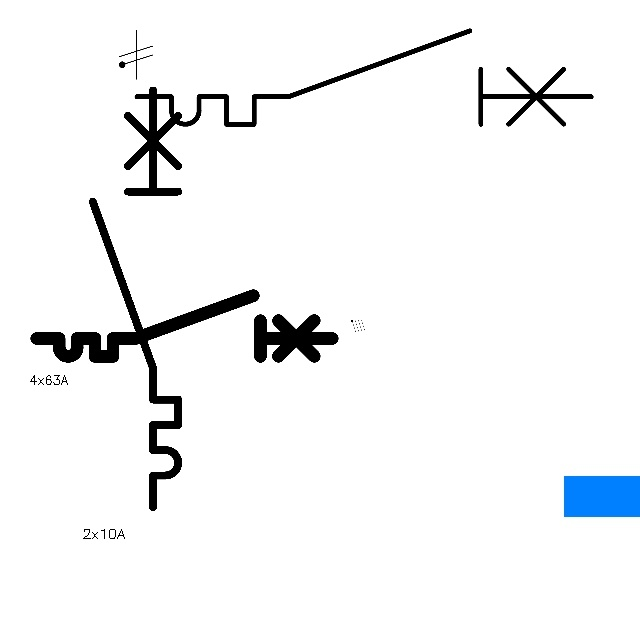interruptor_termomagnetico: (125, 19, 603, 136), (82, 79, 189, 517), (29, 288, 340, 364)
